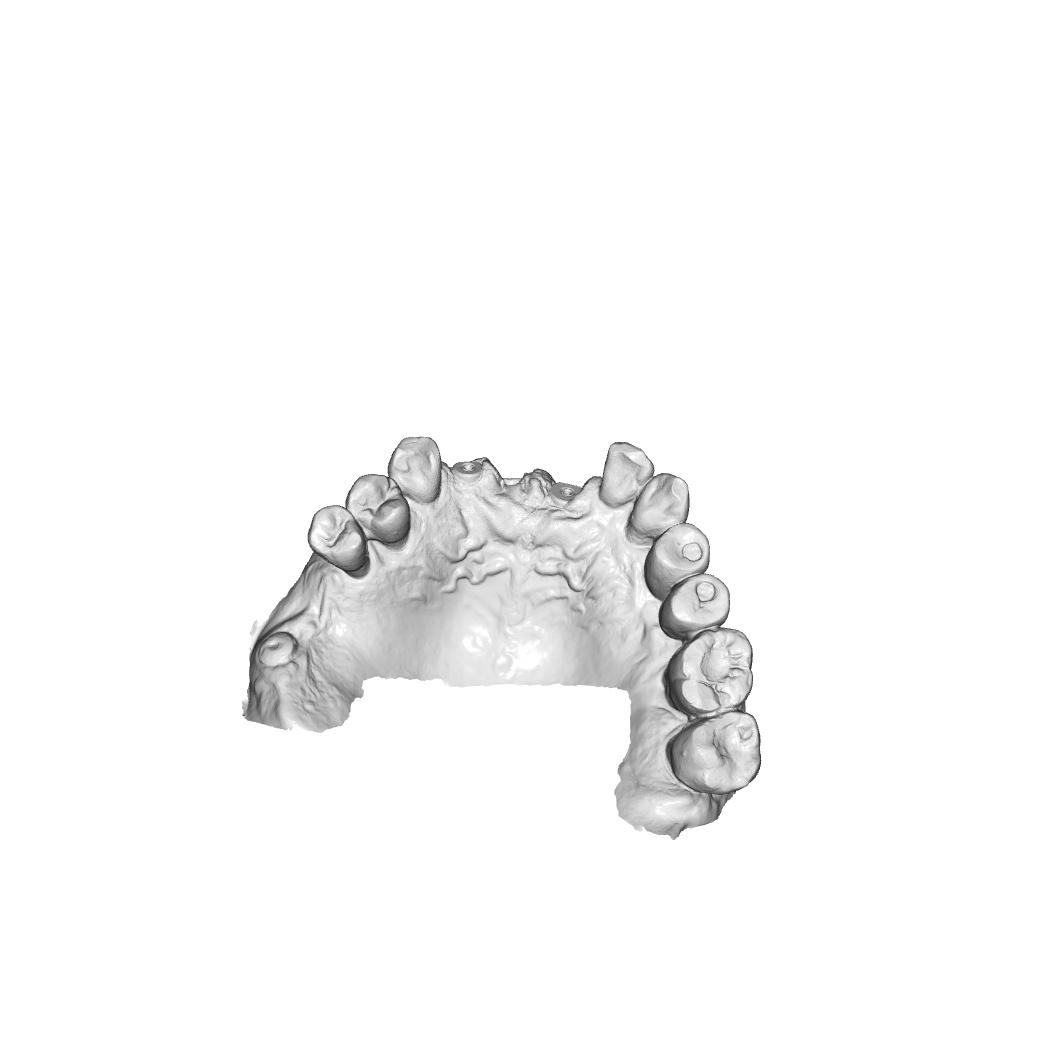canine: (628, 471, 692, 543), (385, 435, 443, 503)
implant: (257, 628, 298, 669)
incisor: (597, 440, 656, 507)
molar: (660, 626, 755, 720), (666, 709, 763, 797)
premolar: (642, 521, 712, 601), (345, 472, 413, 548), (656, 573, 732, 641), (305, 503, 372, 578)
